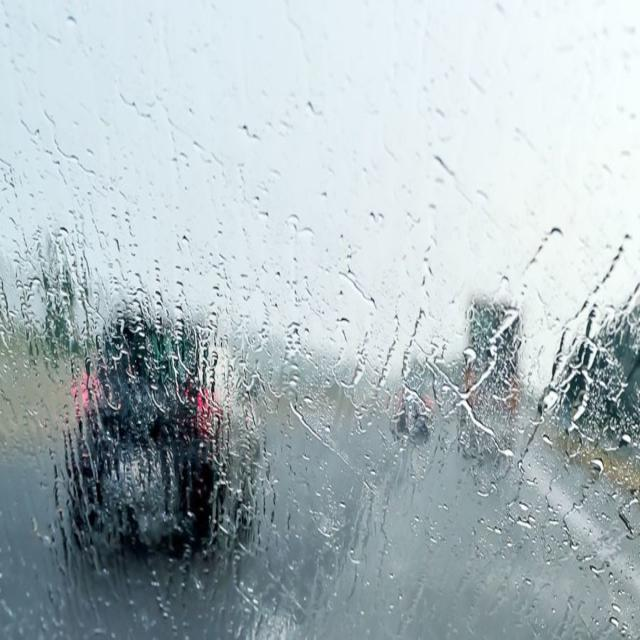bus: (462, 293, 522, 465)
car: (70, 307, 263, 548), (393, 377, 437, 441)
